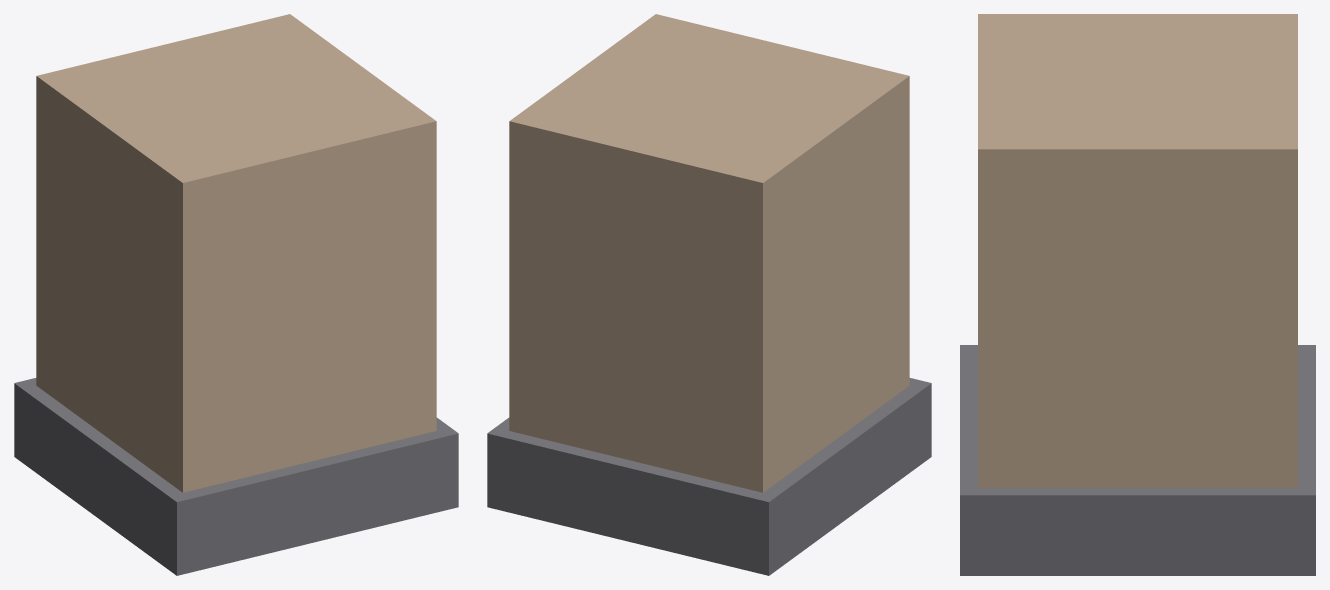
The model's file is roof_water_tank.glb.
3 renders of one model, left to right at view 1: azimuth 30°, elevation 25°; view 2: azimuth 150°, elevation 25°; view 3: azimuth 270°, elevation 25°, orthographic. The views are drawn at different scales.
Parts seen in each view (by area): view 1: roof_water_tank; view 2: roof_water_tank; view 3: roof_water_tank.
Boxes of the visible parts, bbox=[...] form: roof_water_tank: bbox=[14, 14, 458, 575]; roof_water_tank: bbox=[487, 14, 931, 575]; roof_water_tank: bbox=[960, 14, 1315, 575].
Size of what is drawn, in the model's own units: 2 by 2.6 by 2.
